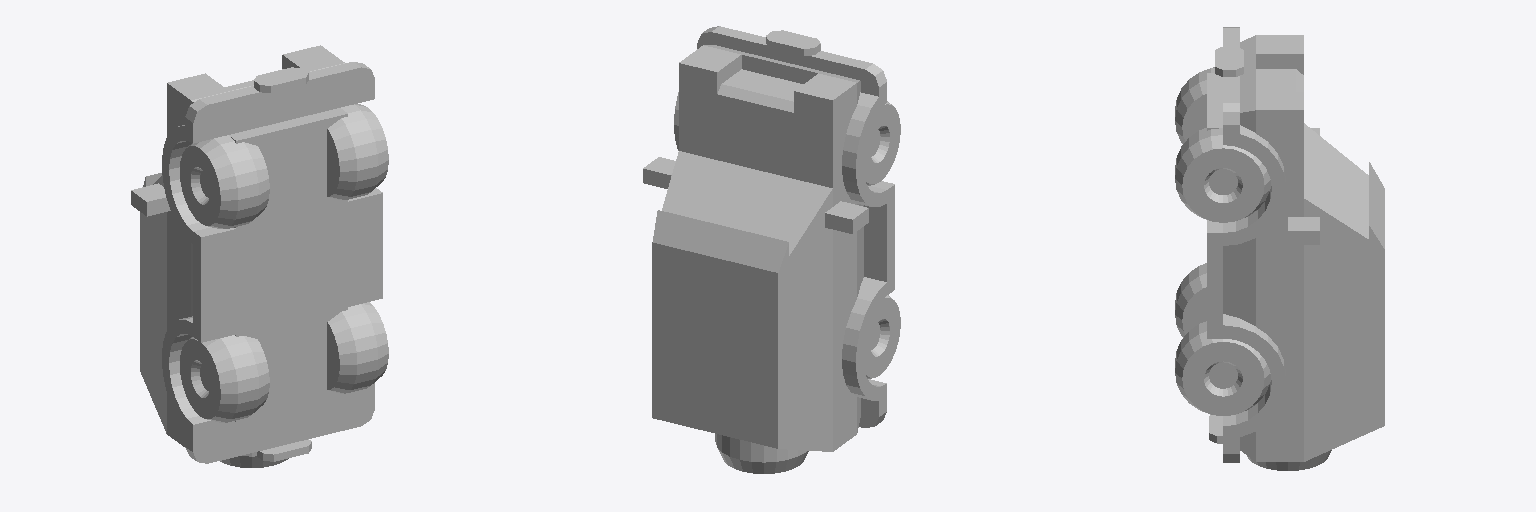
The model's file is suv.002.obj.
3 renders of one model, left to right at view 1: azimuth 30°, elevation 25°; view 2: azimuth 150°, elevation 25°; view 3: azimuth 270°, elevation 25°, orthographic.
Visible parts, largest first — view 1: suv.002; view 2: suv.002; view 3: suv.002.
Part boxes in pixels (left/top/right/bottom): suv.002: left=131, top=45, right=388, bottom=467; suv.002: left=643, top=26, right=900, bottom=473; suv.002: left=1175, top=27, right=1384, bottom=470.
Size of the model in its own units: 1.5 by 2.7 by 1.3.